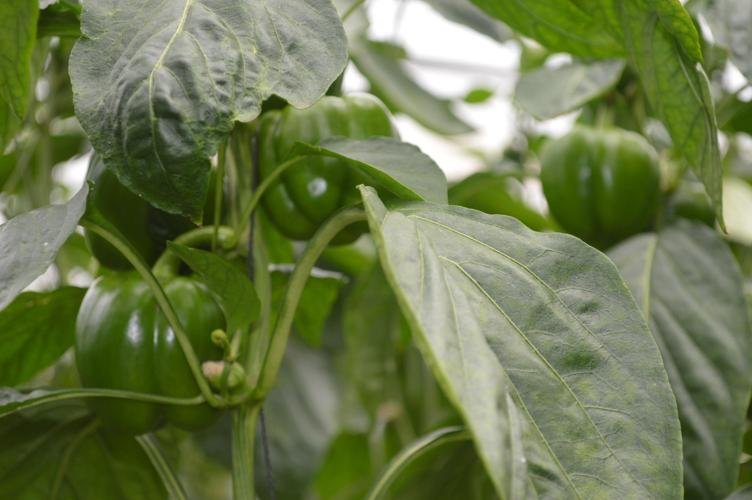BellPepper: (74, 271, 232, 442), (243, 98, 417, 243), (532, 127, 662, 253)
